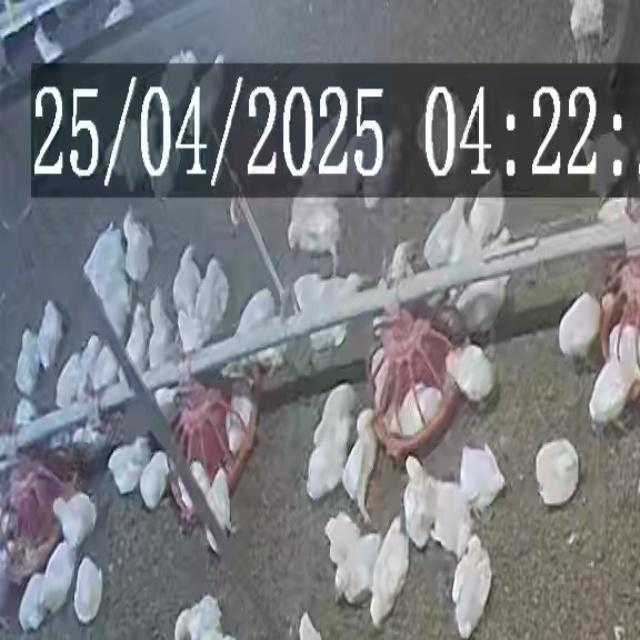chicken: (290, 271, 367, 362), (82, 223, 132, 339), (322, 512, 381, 610), (287, 184, 340, 280), (371, 518, 411, 627), (449, 532, 489, 635), (585, 358, 640, 428), (451, 274, 510, 338), (309, 383, 361, 455), (303, 421, 350, 499), (345, 406, 377, 516), (193, 255, 231, 343), (446, 342, 496, 407), (427, 479, 468, 558), (461, 445, 509, 512), (423, 196, 468, 267), (558, 290, 602, 360), (48, 489, 99, 546), (40, 542, 78, 618), (405, 453, 434, 551), (539, 443, 582, 508), (107, 436, 153, 496), (146, 290, 178, 376), (466, 182, 506, 250), (160, 48, 201, 114), (195, 55, 228, 136), (392, 383, 441, 437), (172, 242, 204, 322), (226, 379, 258, 459), (174, 596, 231, 640), (122, 205, 154, 283), (88, 334, 123, 400), (370, 341, 398, 420), (236, 289, 277, 342), (72, 552, 102, 621), (125, 300, 152, 376), (206, 468, 233, 542), (139, 450, 172, 510), (17, 572, 50, 632), (36, 300, 64, 370), (14, 328, 42, 396), (55, 350, 86, 410), (607, 322, 640, 376), (188, 460, 214, 523), (78, 334, 104, 386), (596, 196, 634, 228), (174, 468, 197, 520), (404, 456, 428, 490)
